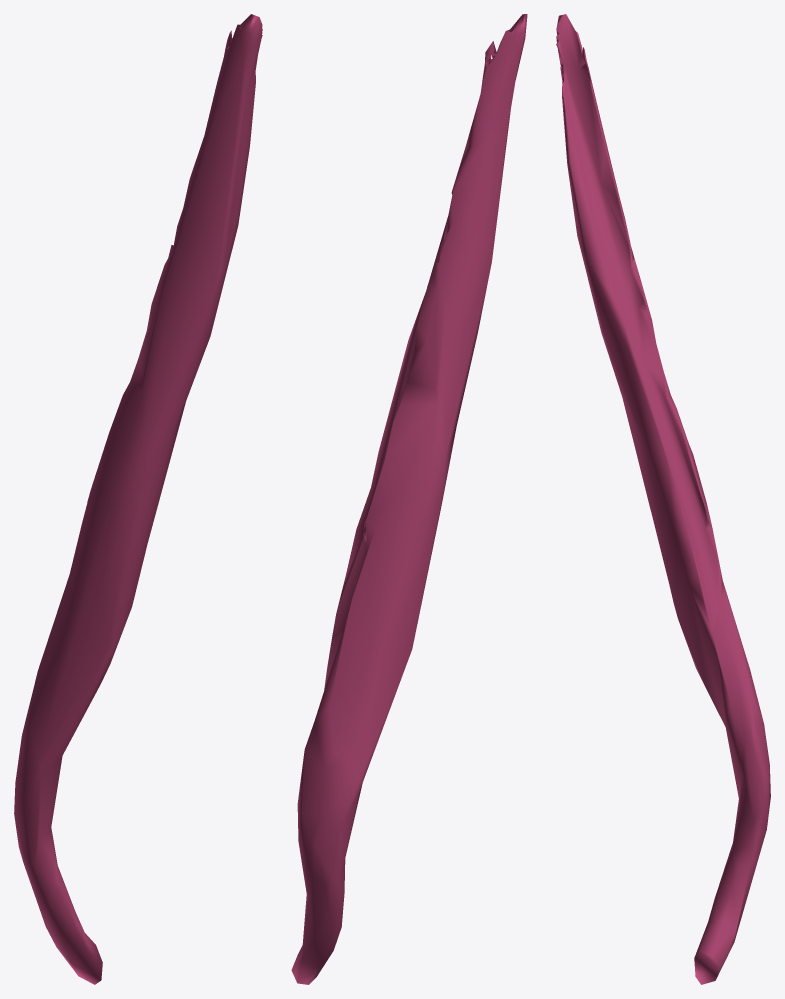
3 views of the same model, side by side, from view 1: azimuth 90°, elevation 25°; view 2: azimuth 150°, elevation 25°; view 3: azimuth 270°, elevation 25° (orthographic). The views are drawn at different scales.
Parts seen in each view (by area): view 1: 左侧足蚓状肌; view 2: 左侧足蚓状肌; view 3: 左侧足蚓状肌.
Boxes of the visible parts, <box> form: 左侧足蚓状肌: <box>14,14,262,984</box>; 左侧足蚓状肌: <box>291,14,527,984</box>; 左侧足蚓状肌: <box>556,14,770,984</box>.
Bounding box in the file's own units: 0.0231 × 0.1384 × 0.0298.
